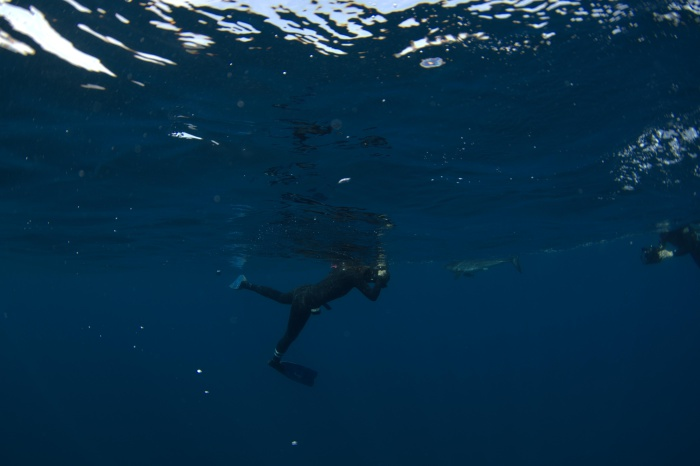Mako: (433, 243, 530, 285)
